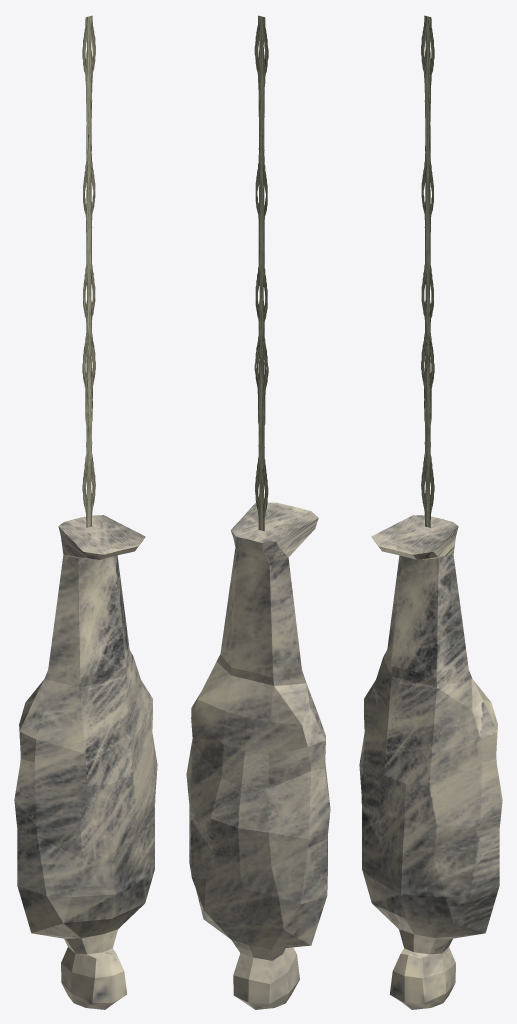
File: HumanCocoon.fbx
3 renders of one model, left to right at view 1: azimuth 30°, elevation 25°; view 2: azimuth 150°, elevation 25°; view 3: azimuth 330°, elevation 25°, orthographic.
Parts seen in each view (by area): view 1: HumanCocoon, WebRope; view 2: HumanCocoon, WebRope; view 3: HumanCocoon, WebRope.
Boxes of the visible parts, left/top/right/bottom form: HumanCocoon: left=14, top=515, right=157, bottom=1009; WebRope: left=82, top=15, right=95, bottom=527; HumanCocoon: left=186, top=502, right=330, bottom=1009; WebRope: left=254, top=15, right=268, bottom=531; HumanCocoon: left=359, top=515, right=502, bottom=1009; WebRope: left=421, top=15, right=434, bottom=527.
Bounding box in the file's own units: 57.21 × 376 × 38.51.
1 material, 1 textured.
